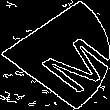M_NW: (7, 21, 103, 89)
